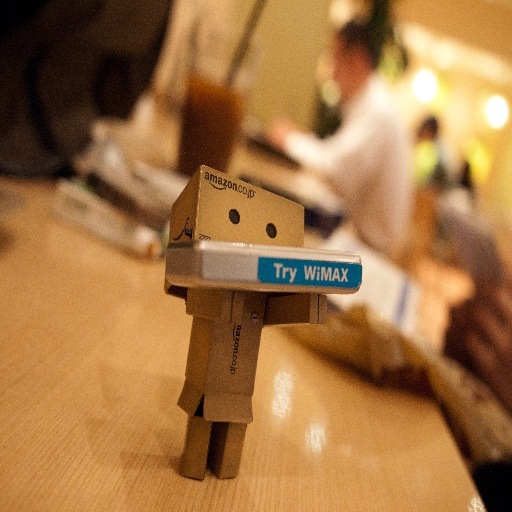hand: (268, 111, 293, 146)
